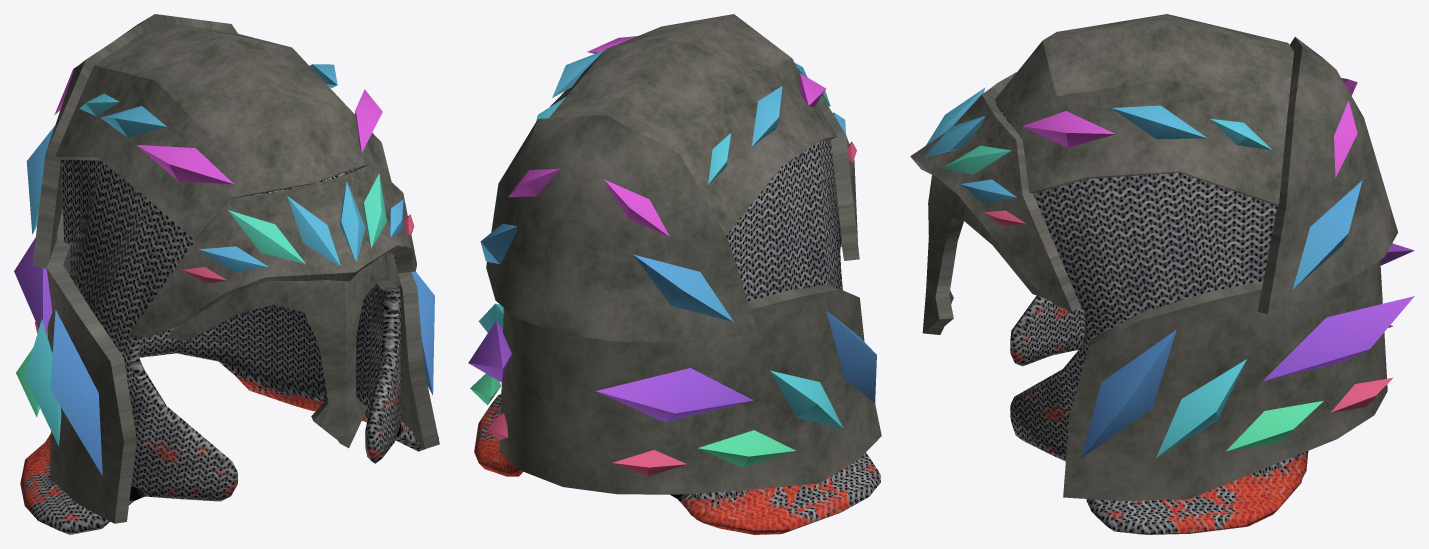
File: ornate_helm.glb
The picture shows the model from 3 angles, left to right: view 1: azimuth 30°, elevation 25°; view 2: azimuth 150°, elevation 25°; view 3: azimuth 270°, elevation 25°; orthographic projection. The views are drawn at different scales.
Visible parts, largest first — view 1: ornate_helm; view 2: ornate_helm; view 3: ornate_helm.
Boxes of the visible parts, x1,y1,x2,y2 form: ornate_helm: (14,14,439,534); ornate_helm: (468,14,881,534); ornate_helm: (910,14,1414,534).
Bounding box in the file's own units: 0.2178 × 0.2363 × 0.2499.
1 material, 1 textured.
